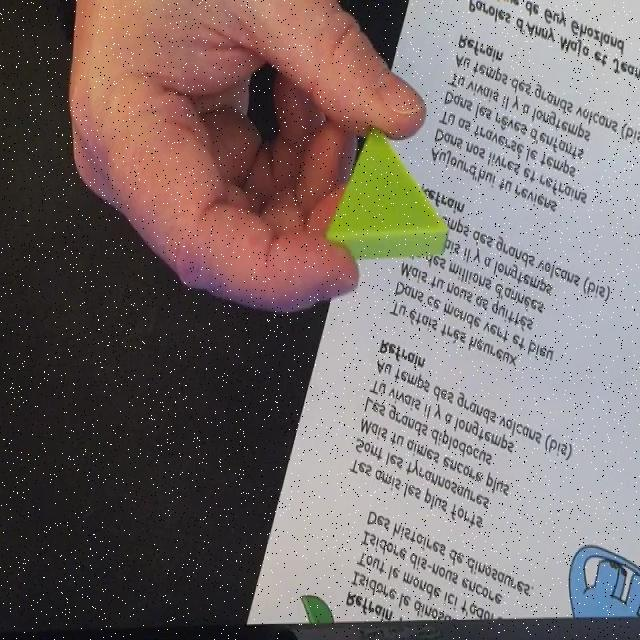triangle: (324, 123, 448, 264)
